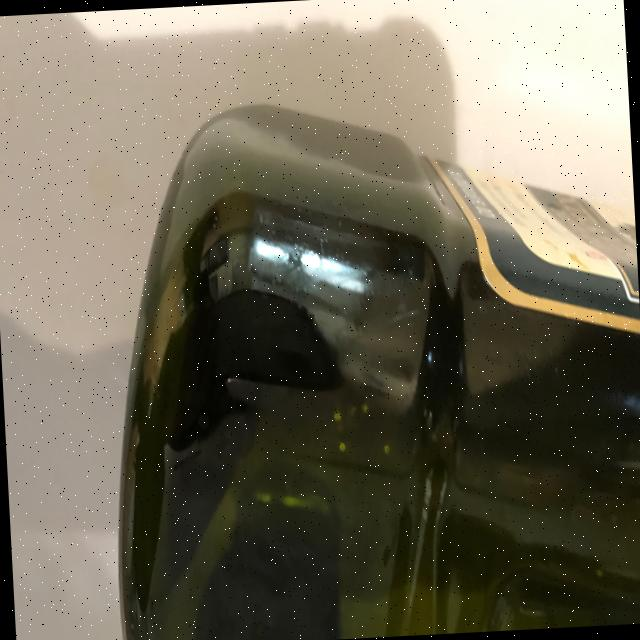plastic: (92, 82, 640, 640)
